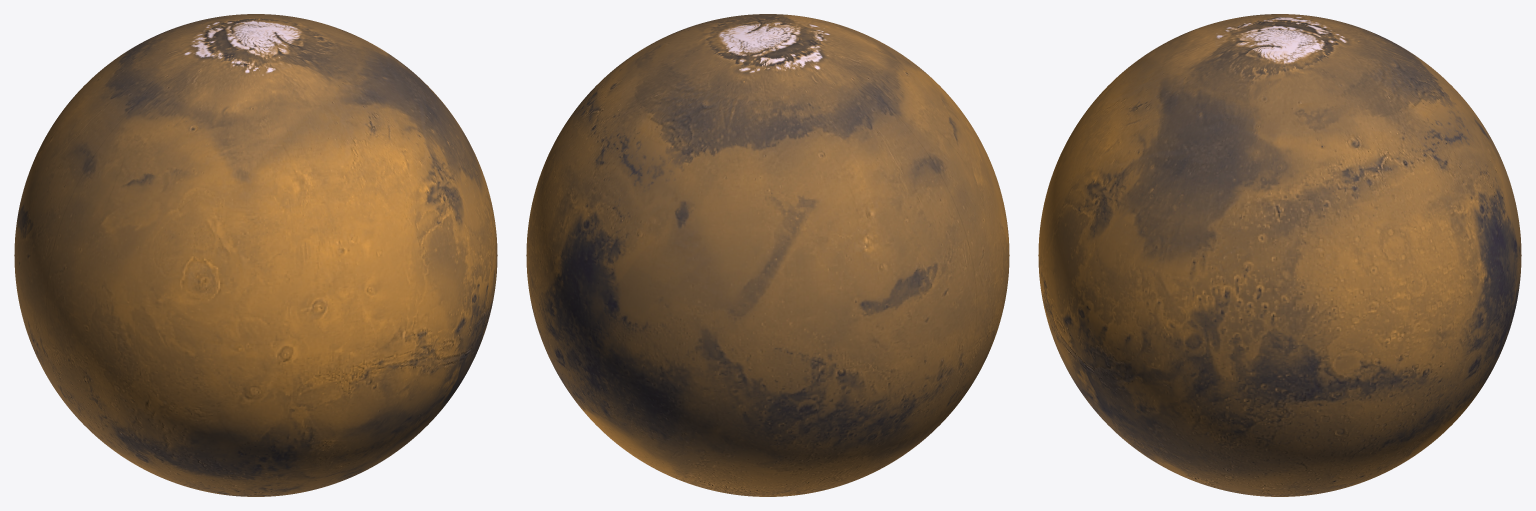
File: mars.glb
3 views of the same model, side by side, from view 1: azimuth 30°, elevation 25°; view 2: azimuth 150°, elevation 25°; view 3: azimuth 270°, elevation 25° (orthographic).
Parts seen in each view (by area): view 1: Mars; view 2: Mars; view 3: Mars.
Boxes of the visible parts, x1,y1,x2,y2 form: Mars: [14, 14, 497, 496]; Mars: [526, 14, 1009, 496]; Mars: [1038, 14, 1521, 496].
Size of the model in its own units: 2 by 2 by 2.
1 material, 1 textured.
